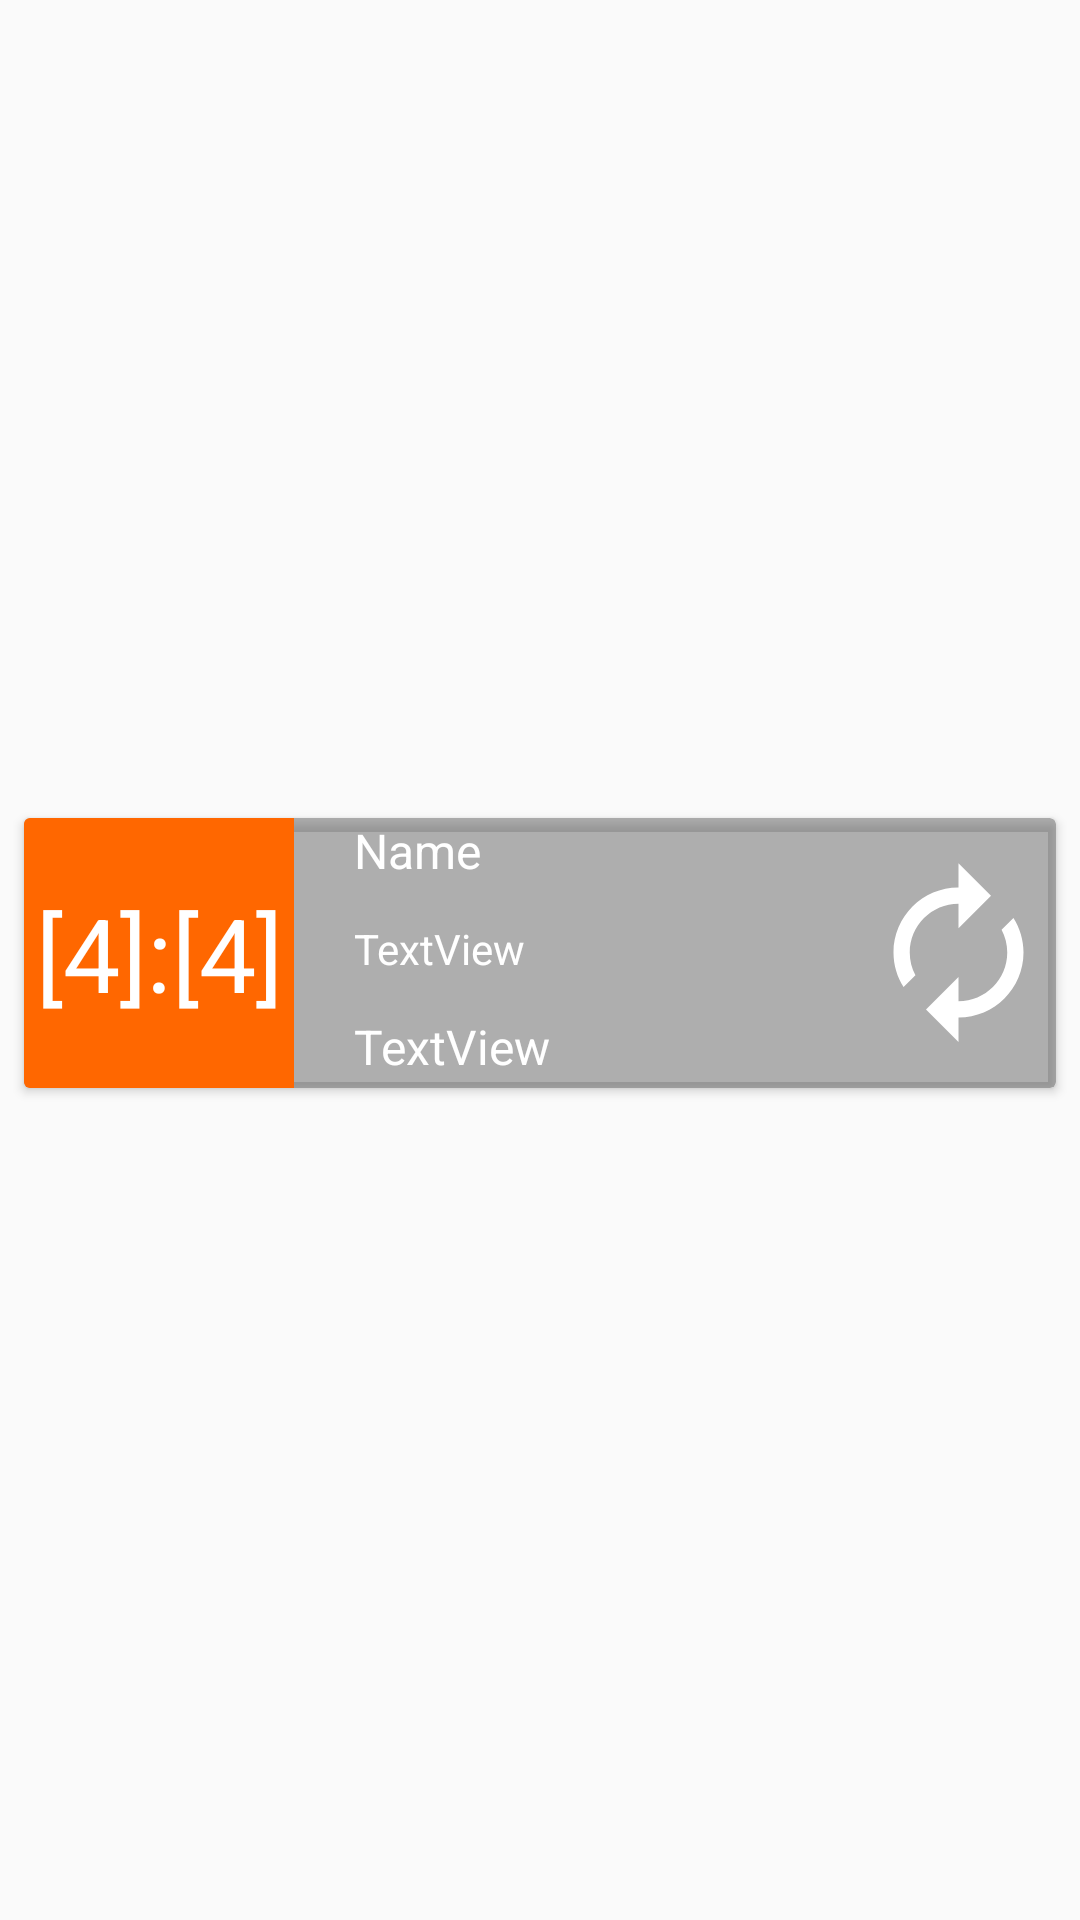

Icon bounding boxes for this 1080 x 1920 phone screenshot, format (x1, y1, x2, y2):
reroll item: (893, 864, 1024, 1042)
